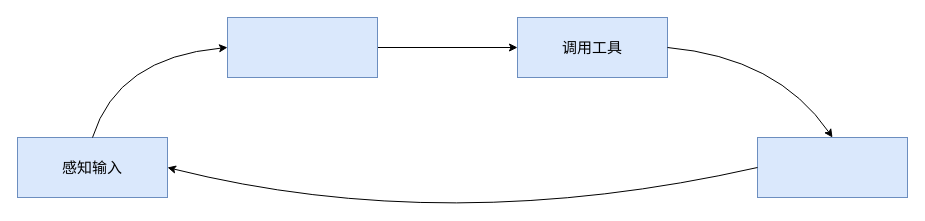
This 925x221 diagram has some shape labels left out. The box of each missing label's shape, as (x1, y1, x2, y2) in pixels:
分析决策: (226, 16, 378, 78)
执行动作: (756, 136, 908, 198)
